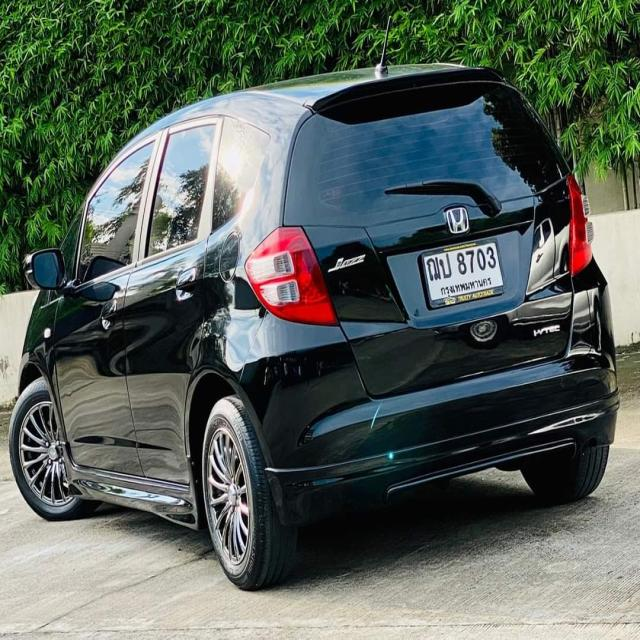license_plate: (414, 235, 507, 312)
